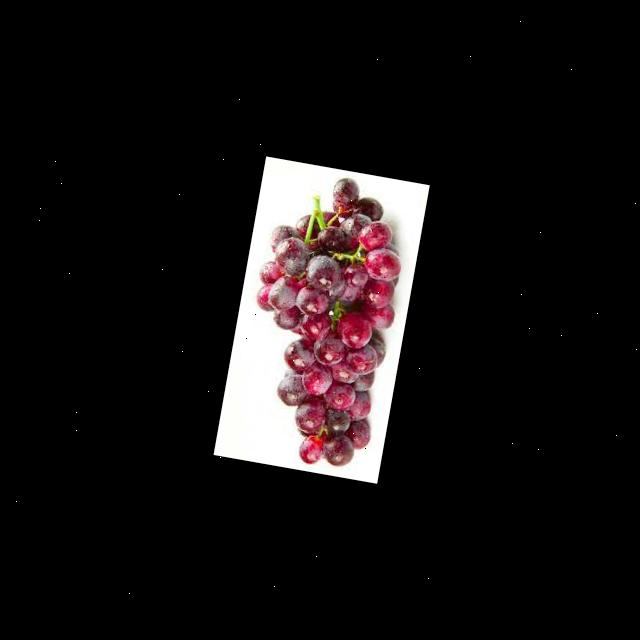grape: (226, 165, 415, 474)
